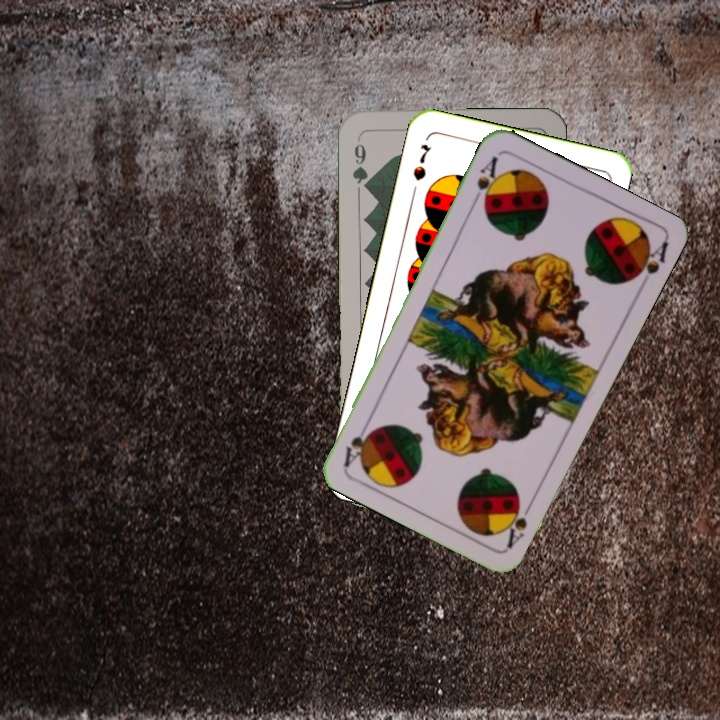G9: (348, 134, 372, 193)
S7: (409, 140, 434, 183)
SA: (496, 490, 537, 551), (468, 152, 503, 210)
